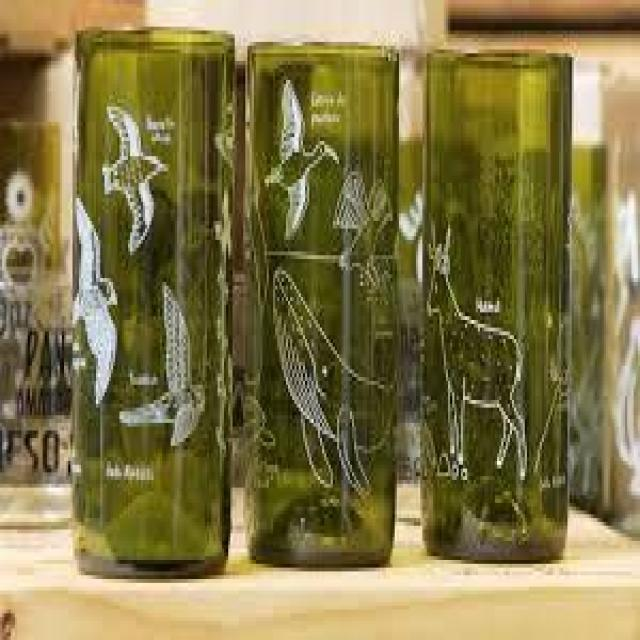Glass: (71, 24, 239, 579), (420, 45, 577, 563), (248, 44, 401, 563)
